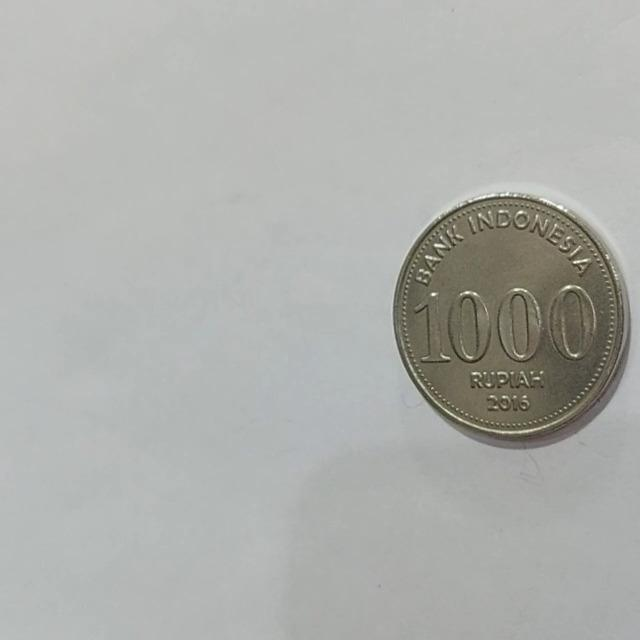Rp100: (390, 189, 630, 447)
